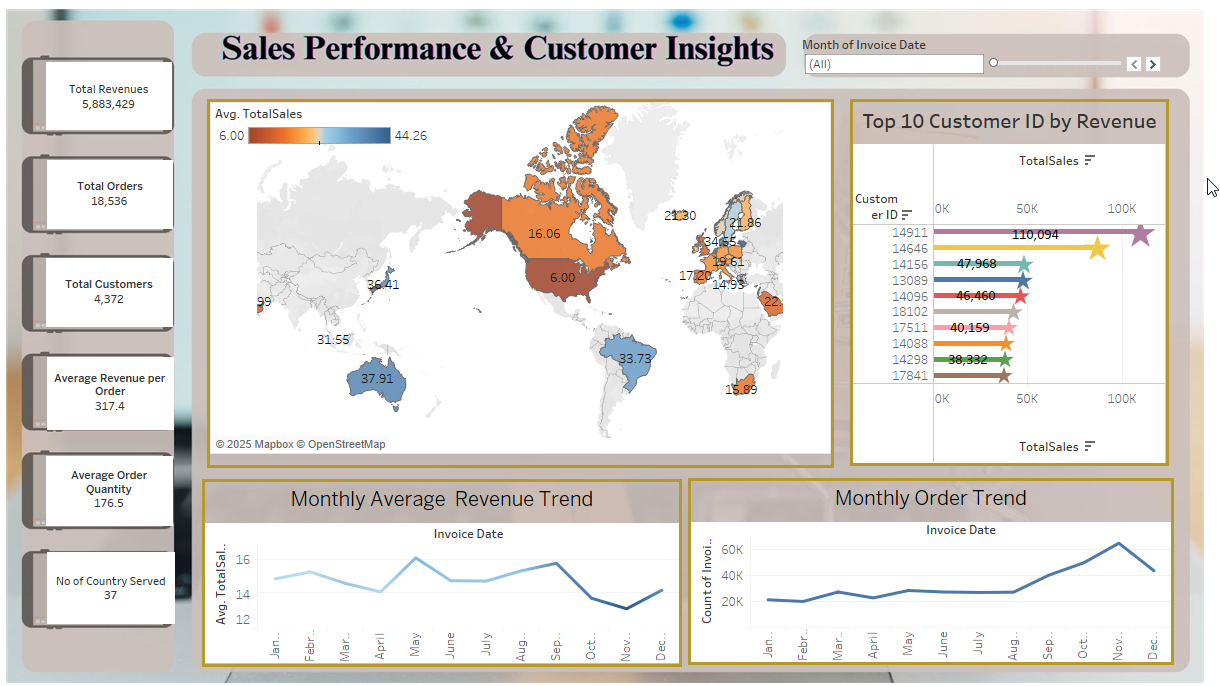

The dashboard page shown, as its layout file describes it:
{"tool":"tableau","page":{"name":"Dashboard 1","canvas":[1000,1000],"units":"permille","ordinal":0},"visuals":[{"type":"image","param":"C:/Users/Admin/Downloads/Warehouse Performance & Bottleneck Analysis (2).jpg","box":[6.1,12.1,987.9,975.8]},{"type":"filter","title":"Customer Segmentation by Spending","param":"[federated.1ccbvkj0c3ypcy1dz00xd1qiv25o].[mn:InvoiceDate:ok]","box":[643.9,56.1,265.9,59.1]},{"type":"worksheet","title":"Total Revenues","mark":"Automatic","box":[90.9,92.4,92.4,98.5]},{"type":"worksheet","title":"Sales by Country","mark":"Automatic","box":[208.3,145.5,459.1,528.8]},{"type":"worksheet","title":"Top 10 Customer ID by Revenue","mark":"Automatic","rows":["CustomerID"],"cols":["Calculation_475411290212372480","Calculation_475411290212372480"],"box":[679.6,145.5,233.3,525.8]},{"type":"legend","title":"Sales by Country","param":"[federated.1ccbvkj0c3ypcy1dz00xd1qiv25o].[avg:Calculation_475411290212372480:qk]","box":[214.4,154.6,159.1,60.6]},{"type":"worksheet","title":"Sheet 7","mark":"Automatic","box":[91.7,233.3,92.4,98.5]},{"type":"worksheet","title":"Sheet 8","mark":"Automatic","box":[90.9,374.2,93.2,98.5]},{"type":"worksheet","title":"Sheet 9","mark":"Automatic","box":[91.7,515.1,93.2,104.5]},{"type":"worksheet","title":"Sheet 10","mark":"Automatic","box":[90.9,657.6,93.2,100]},{"type":"worksheet","title":"Customer Segmentation by Spending","mark":"Automatic","rows":["InvoiceNo"],"cols":["InvoiceDate"],"box":[560.6,689.4,356.1,268.2]},{"type":"worksheet","title":" Monthly Revenue Trend","mark":"Automatic","rows":["Calculation_475411290212372480"],"cols":["InvoiceDate"],"box":[205.3,690.9,351.5,269.7]},{"type":"worksheet","title":"Sheet 11","mark":"Automatic","box":[91.7,795.5,93.9,103]}]}

Visuals, with their boxes on the dashboard's canvas, which has no fixed pixel size, in thousandths of its width and height (x1, y1, x2, y2). These are canvas units, not pixel positions in the 1220x686 screenshot, which may show the page scaled, cropped or inside an application window:
image: 6 12 994 988
"Customer Segmentation by Spending" filter: 644 56 910 115
"Total Revenues" worksheet: 91 92 183 191
"Sales by Country" worksheet: 208 146 667 674
"Top 10 Customer ID by Revenue" worksheet: 680 146 913 671
"Sales by Country" legend: 214 155 374 215
"Sheet 7" worksheet: 92 233 184 332
"Sheet 8" worksheet: 91 374 184 473
"Sheet 9" worksheet: 92 515 185 620
"Sheet 10" worksheet: 91 658 184 758
"Customer Segmentation by Spending" worksheet: 561 689 917 958
" Monthly Revenue Trend" worksheet: 205 691 557 961
"Sheet 11" worksheet: 92 796 186 898
